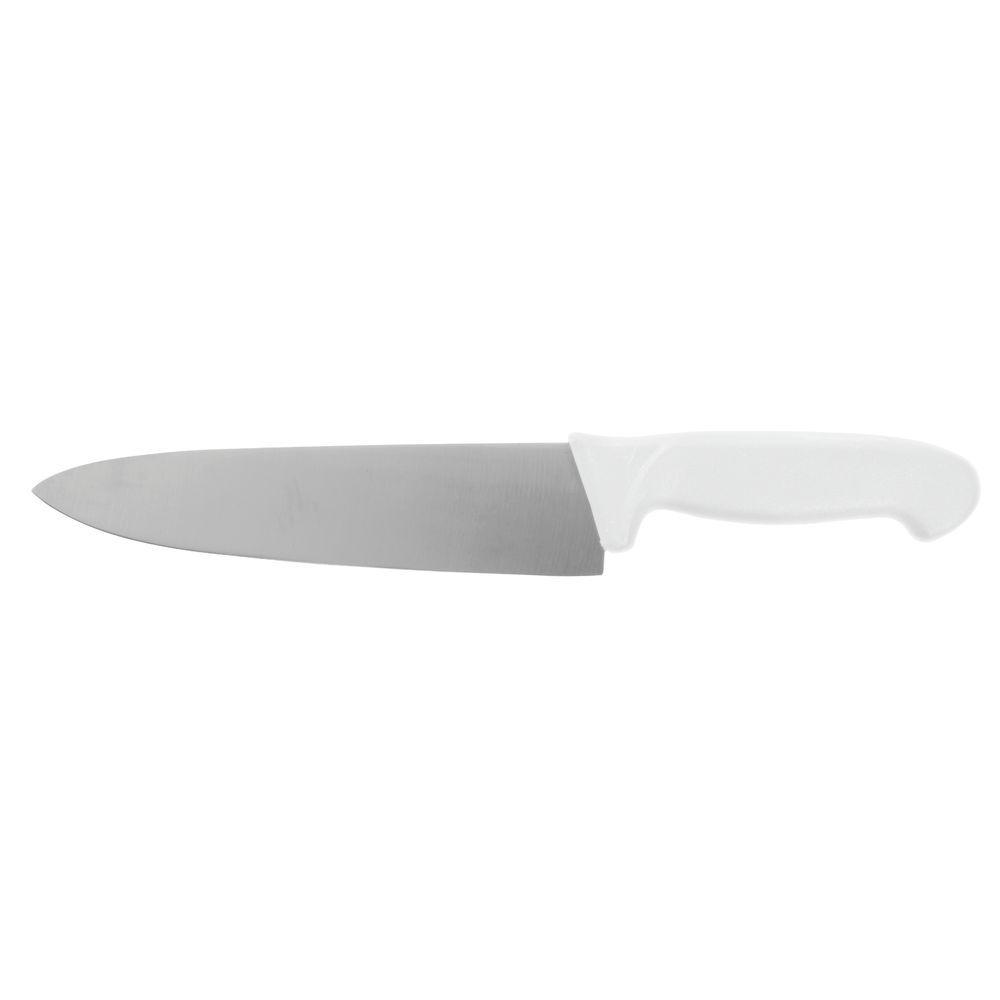Knife: (31, 427, 980, 577)
